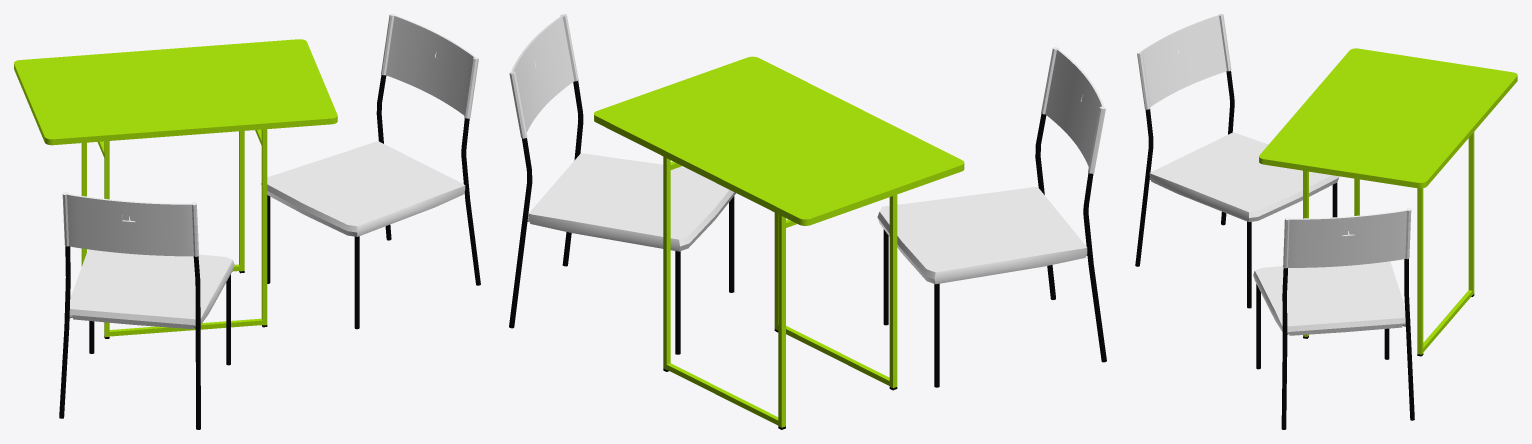
The model's file is IKEA-Muddus_Table-3D.DAE.
3 renders of one model, left to right at view 1: azimuth 30°, elevation 25°; view 2: azimuth 150°, elevation 25°; view 3: azimuth 270°, elevation 25°, orthographic. The views are drawn at different scales.
Visible parts, largest first — view 1: Rectangle01, Box04, Box03; view 2: Rectangle01, Box04, Box03; view 3: Rectangle01, Box03, Box04.
Part boxes in pixels (box(x1,y1,x2,y2)): Rectangle01: box(14, 39, 337, 338); Box04: box(59, 192, 234, 429); Box03: box(261, 14, 480, 329); Rectangle01: box(594, 56, 964, 429); Box04: box(877, 47, 1106, 387); Box03: box(509, 14, 735, 354); Rectangle01: box(1259, 48, 1517, 356); Box03: box(1253, 208, 1414, 429); Box04: box(1135, 14, 1339, 308).
Size of the model in its own units: 1630 by 779 by 1272.
